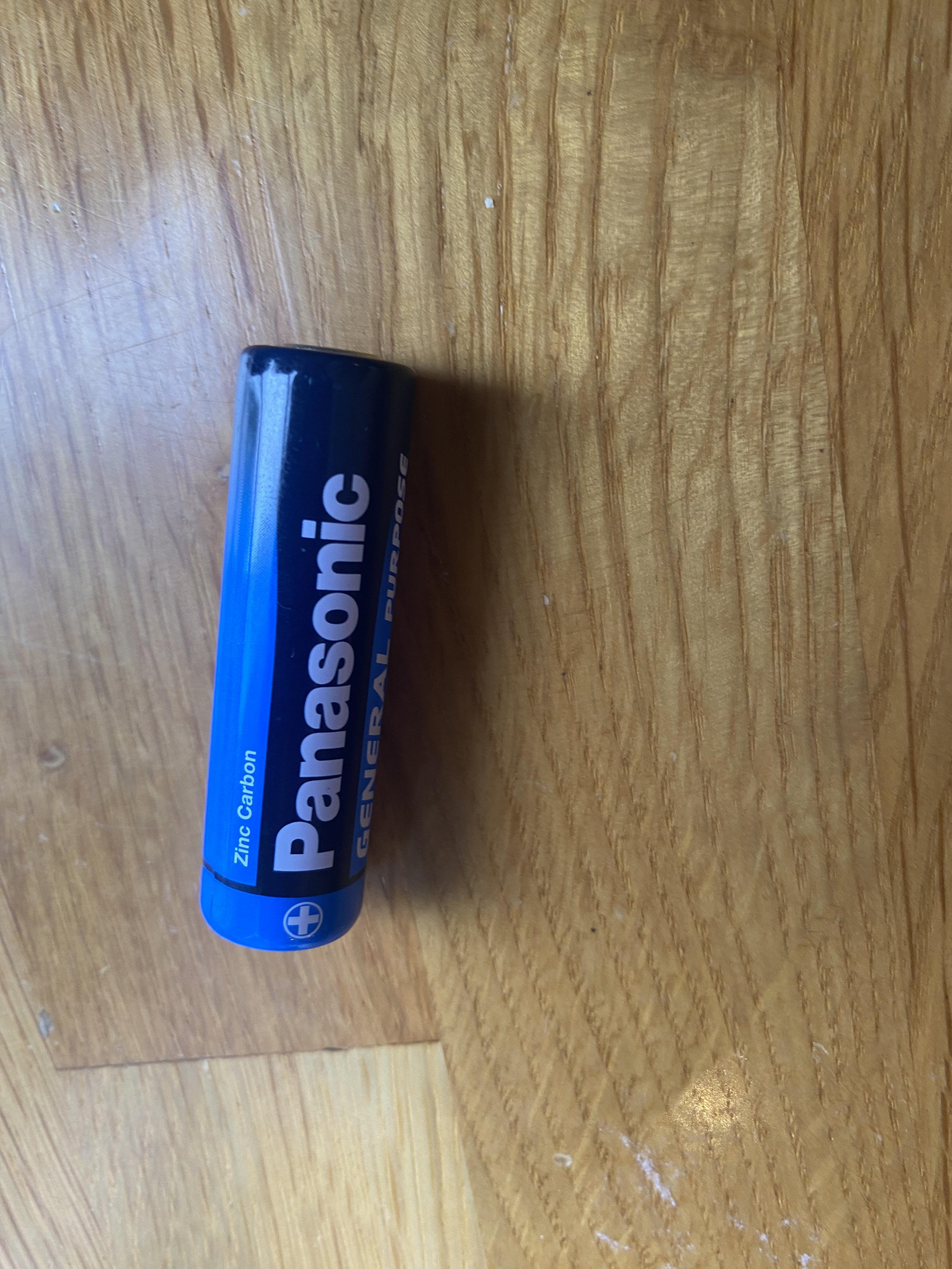AA: (192, 343, 422, 959)
